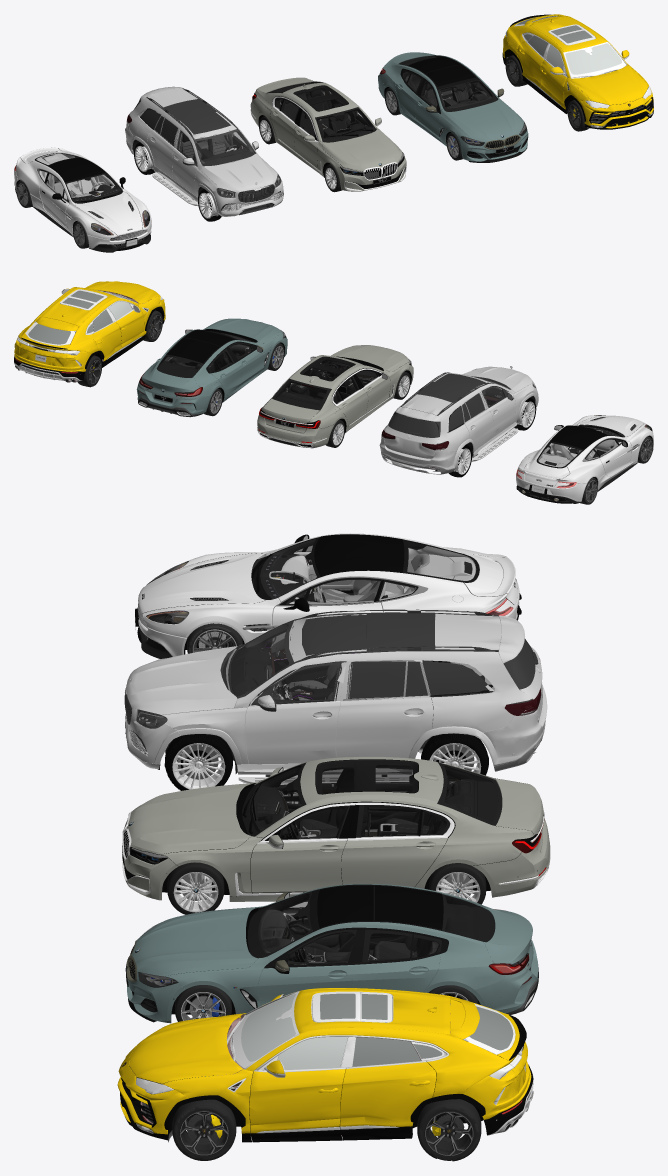
Rendered from cars_31.fbx.
The picture shows the model from 3 angles, top to bottom: view 1: azimuth 30°, elevation 25°; view 2: azimuth 150°, elevation 25°; view 3: azimuth 270°, elevation 25°; orthographic projection. The views are drawn at different scales.
Visible parts, largest first — view 1: Body_gls_paint_001, Body_Lamborghini_UrusRewardRe.002, Body_Kuzov_Main, Body_CarPaint, Body_VANAstonMartin_Vanquish_.011, SeeThrough_Lamborghini_UrusRewardRe, SeeThrough_glass, SeeThrough_Winsows, Body_gls_carbonn_001, SeeThrough_gls_glass_1_043, Body_gls_black_chrome_001, SeeThrough_VANAstonMartin_Vanquish_ (+23 smaller); view 2: Body_Kuzov_Main, Body_Lamborghini_UrusRewardRe.002, Body_gls_paint_001, Body_CarPaint, Body_VANAstonMartin_Vanquish_.011, Body_gls_carbonn_001, SeeThrough_Lamborghini_UrusRewardRe, SeeThrough_Winsows, Body_Lamborghini_UrusRewardRe.004, SeeThrough_glass, Body_gls_paint_021, SeeThrough_top_glass (+21 smaller); view 3: Body_gls_paint_001, Body_Lamborghini_UrusRewardRe.002, Body_Kuzov_Main, Body_CarPaint, Body_VANAstonMartin_Vanquish_.011, Body_gls_carbonn_001, SeeThrough_Lamborghini_UrusRewardRe, SeeThrough_Winsows, SeeThrough_glass, SeeThrough_VANAstonMartin_Vanquish_, Body_Lamborghini_UrusRewardRe.004, SeeThrough_gls_glass_1_043 (+32 smaller).
Boxes of the visible parts, x1=… form: Body_gls_paint_001: x1=125, y1=88, x2=283, y2=216; Body_Lamborghini_UrusRewardRe.002: x1=503, y1=14, x2=653, y2=128; Body_Kuzov_Main: x1=250, y1=77, x2=406, y2=191; Body_CarPaint: x1=378, y1=52, x2=528, y2=161; Body_VANAstonMartin_Vanquish_.011: x1=14, y1=147, x2=151, y2=248; SeeThrough_Lamborghini_UrusRewardRe: x1=505, y1=15, x2=651, y2=108; SeeThrough_glass: x1=399, y1=55, x2=526, y2=145; SeeThrough_Winsows: x1=268, y1=82, x2=375, y2=142; Body_gls_carbonn_001: x1=139, y1=99, x2=230, y2=145; SeeThrough_gls_glass_1_043: x1=178, y1=129, x2=280, y2=197; Body_gls_black_chrome_001: x1=127, y1=88, x2=281, y2=215; SeeThrough_VANAstonMartin_Vanquish_: x1=36, y1=153, x2=120, y2=201; Body_Kuzov_Main: x1=257, y1=345, x2=413, y2=448; Body_Lamborghini_UrusRewardRe.002: x1=14, y1=281, x2=165, y2=371; Body_gls_paint_001: x1=379, y1=366, x2=538, y2=470; Body_CarPaint: x1=136, y1=318, x2=287, y2=414; Body_VANAstonMartin_Vanquish_.011: x1=516, y1=415, x2=653, y2=501; Body_gls_carbonn_001: x1=388, y1=373, x2=485, y2=437; SeeThrough_Lamborghini_UrusRewardRe: x1=15, y1=290, x2=163, y2=373; SeeThrough_Winsows: x1=272, y1=358, x2=378, y2=409; Body_Lamborghini_UrusRewardRe.004: x1=14, y1=287, x2=148, y2=382; SeeThrough_glass: x1=142, y1=330, x2=285, y2=395; Body_gls_paint_021: x1=384, y1=407, x2=440, y2=458; SeeThrough_top_glass: x1=167, y1=330, x2=234, y2=363; Body_gls_paint_001: x1=125, y1=612, x2=547, y2=774; Body_Lamborghini_UrusRewardRe.002: x1=117, y1=988, x2=531, y2=1134; Body_Kuzov_Main: x1=122, y1=756, x2=550, y2=901; Body_CarPaint: x1=126, y1=883, x2=538, y2=1023; Body_VANAstonMartin_Vanquish_.011: x1=138, y1=533, x2=519, y2=656; Body_gls_carbonn_001: x1=302, y1=613, x2=535, y2=699; SeeThrough_Lamborghini_UrusRewardRe: x1=136, y1=993, x2=522, y2=1114; SeeThrough_Winsows: x1=242, y1=763, x2=501, y2=839; SeeThrough_glass: x1=138, y1=891, x2=528, y2=987; SeeThrough_VANAstonMartin_Vanquish_: x1=260, y1=539, x2=475, y2=604; Body_Lamborghini_UrusRewardRe.004: x1=136, y1=991, x2=533, y2=1142; SeeThrough_gls_glass_1_043: x1=136, y1=621, x2=536, y2=728.
Bounding box in the file's own units: 16.14 × 1.87 × 5.31.
198 materials, 192 textured.
